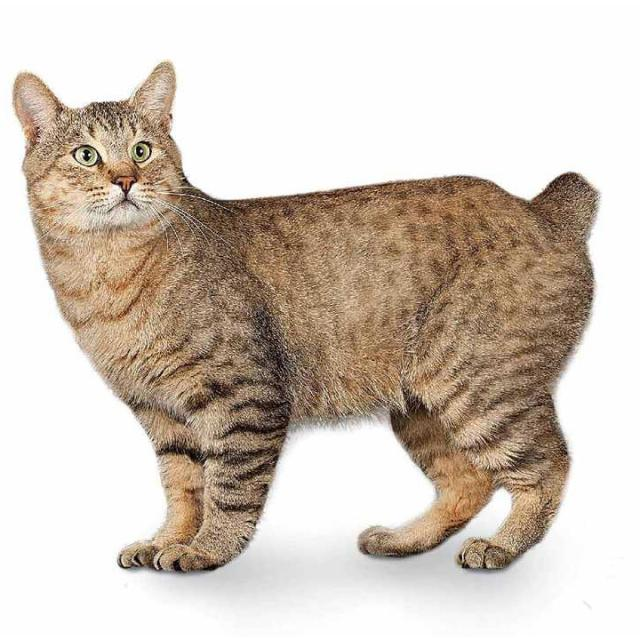American Bobtail: (9, 56, 606, 582)
